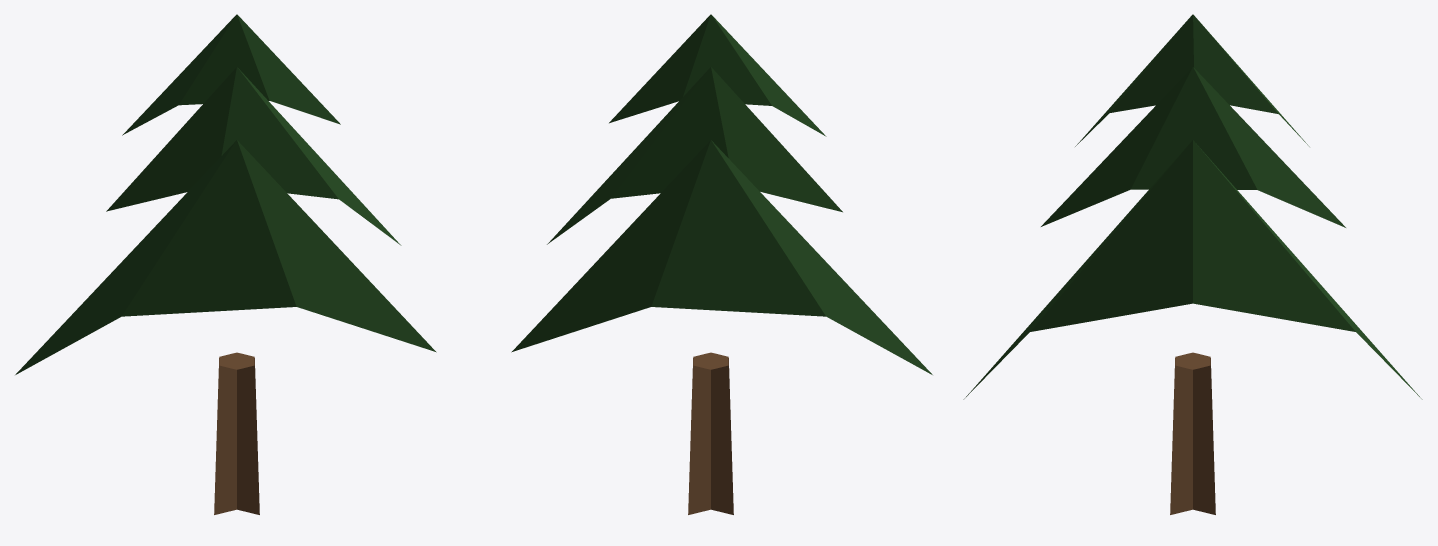
The picture shows the model from 3 angles, left to right: view 1: azimuth 30°, elevation 25°; view 2: azimuth 150°, elevation 25°; view 3: azimuth 270°, elevation 25°; orthographic projection.
Visible parts, largest first — view 1: tree-pine-a; view 2: tree-pine-a; view 3: tree-pine-a.
Boxes of the visible parts, x1,y1,x2,y2 form: tree-pine-a: [15, 14, 436, 514]; tree-pine-a: [511, 14, 932, 514]; tree-pine-a: [963, 14, 1422, 514].
Size of the model in its own units: 3.14 by 3.81 by 3.14.
